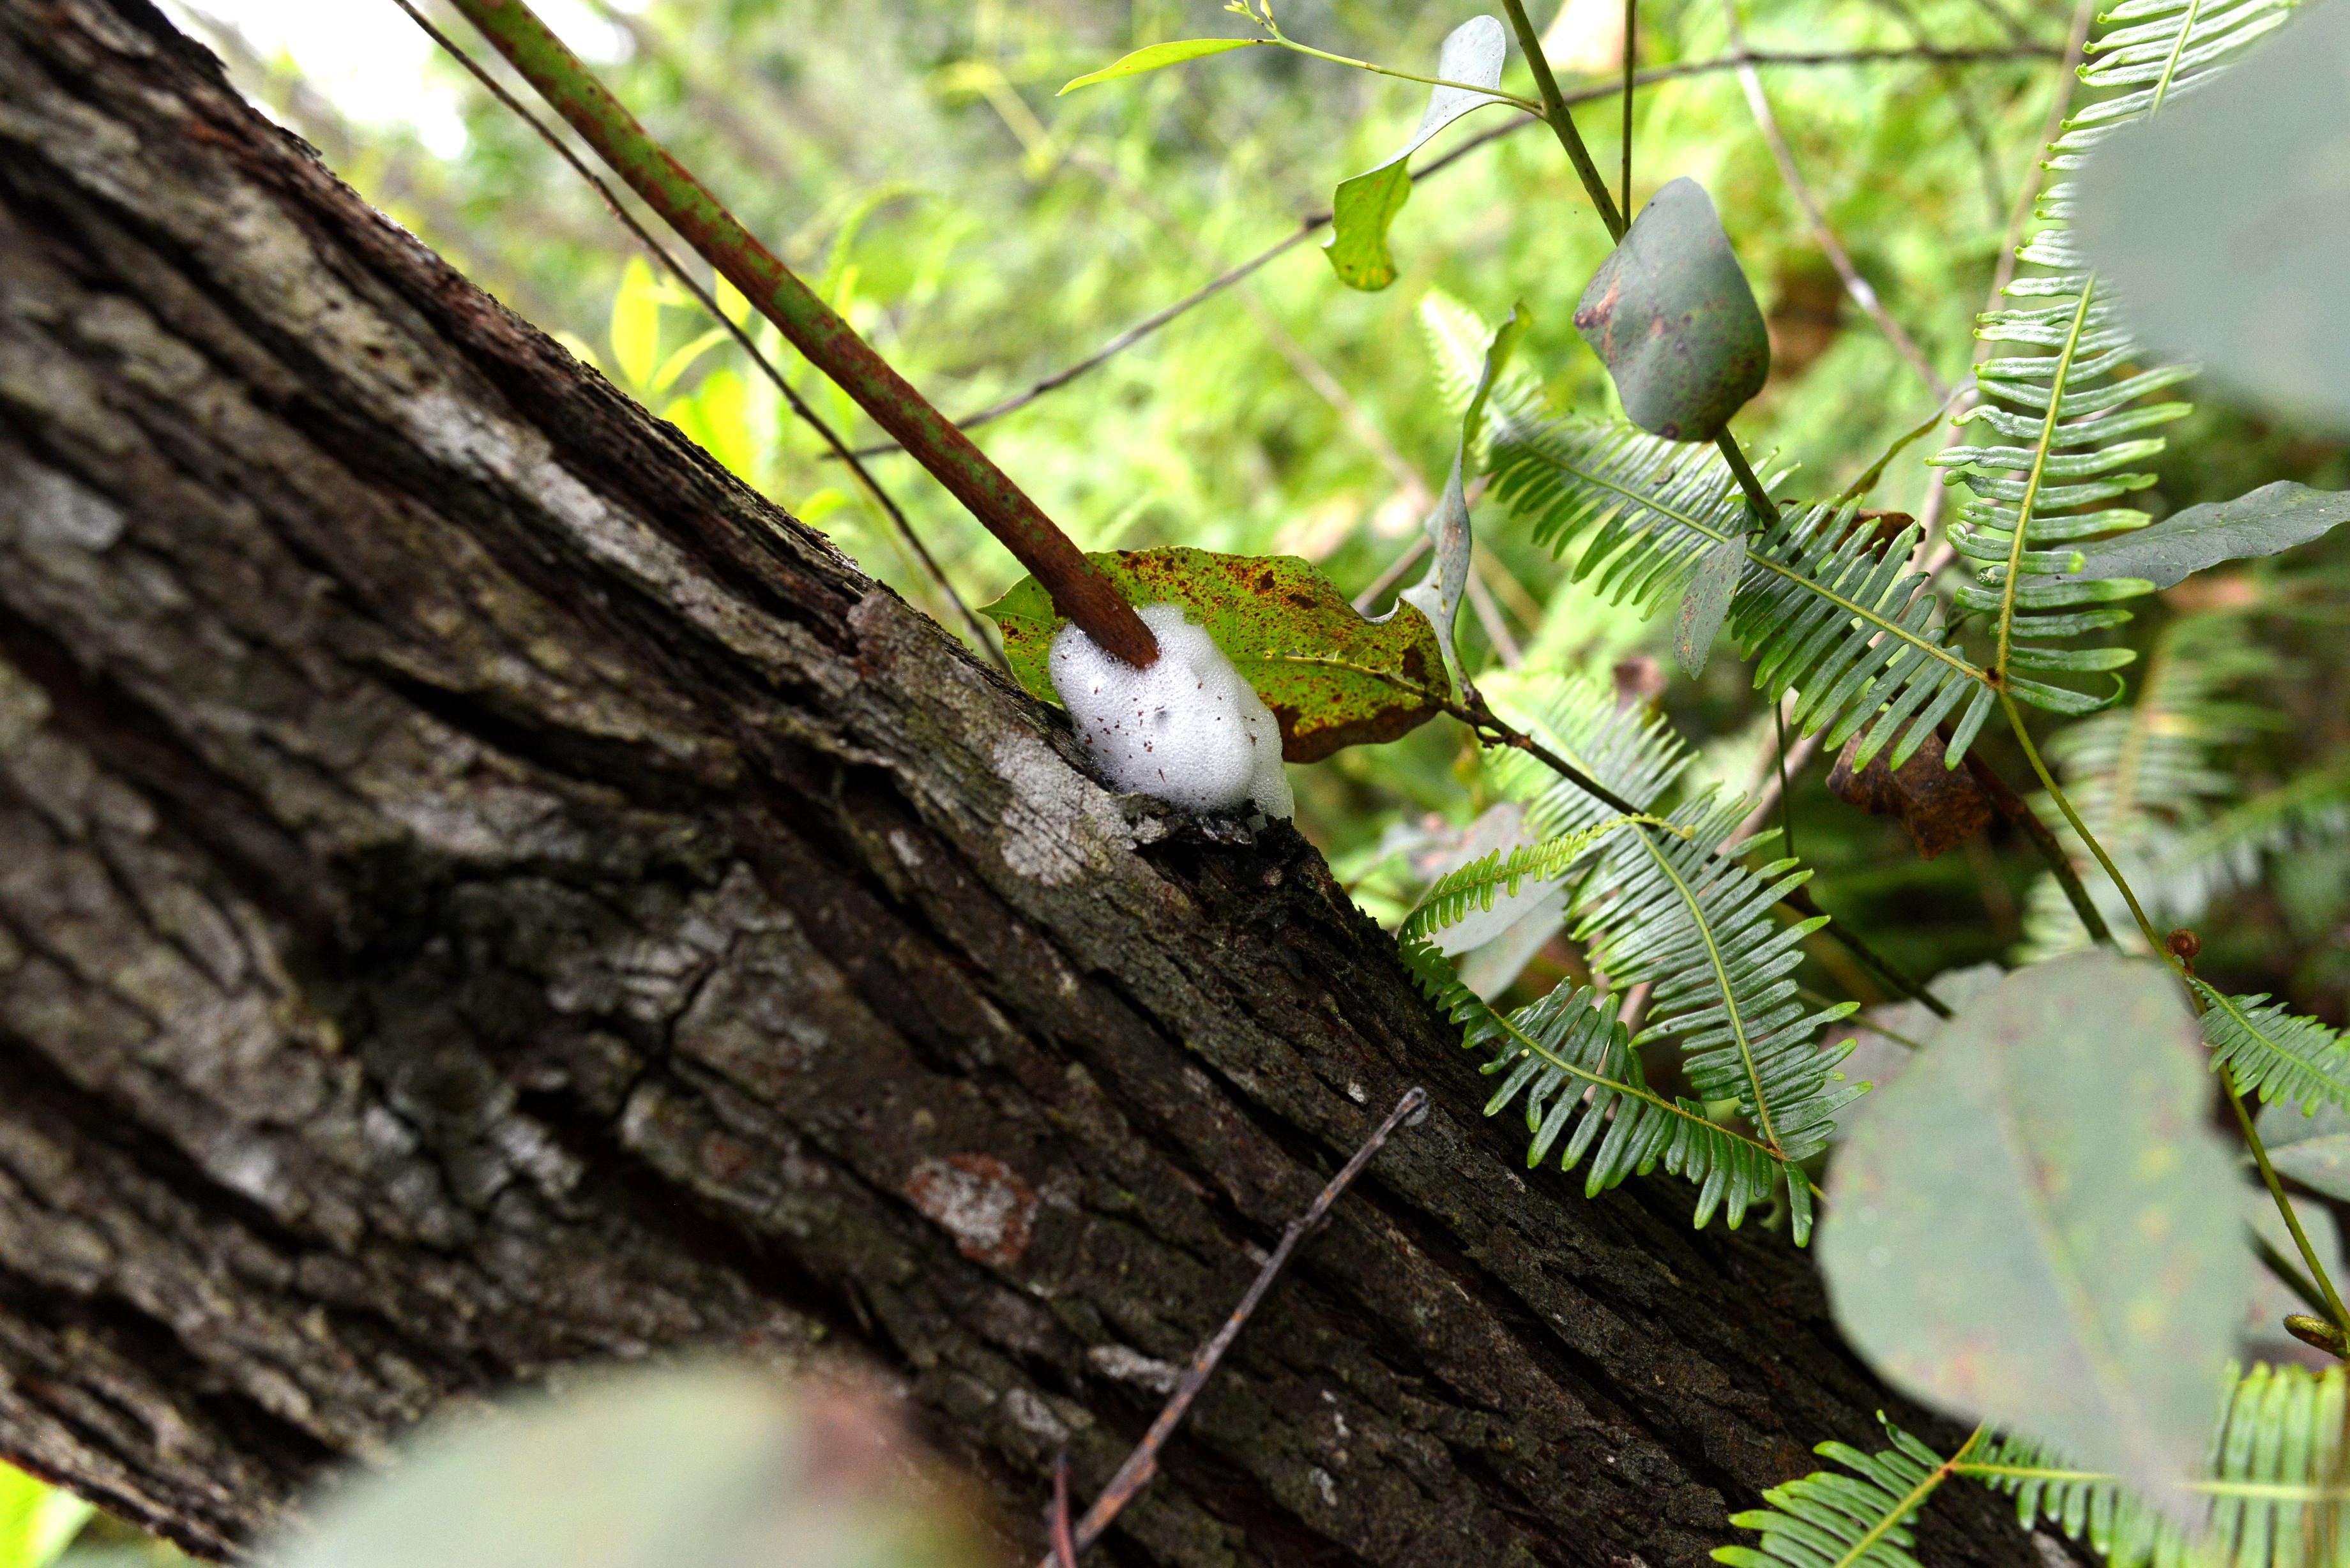Ceratocystis - Bubble: (1060, 595, 1274, 814)
